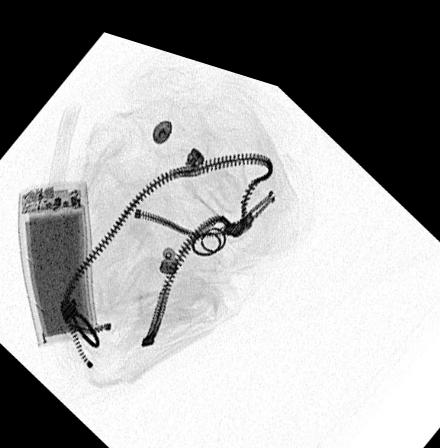Powerbank: (18, 177, 98, 342)
